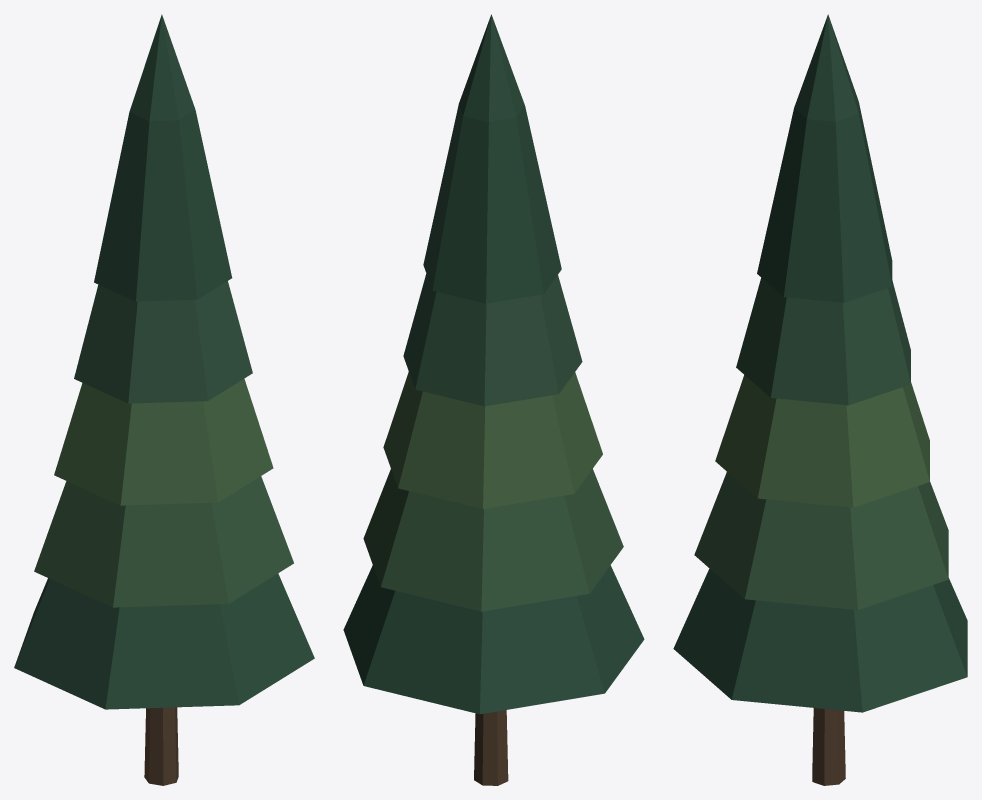
The model's file is cypress.glb.
3 views of the same model, side by side, from view 1: azimuth 30°, elevation 25°; view 2: azimuth 150°, elevation 25°; view 3: azimuth 270°, elevation 25° (orthographic).
Visible parts, largest first — view 1: cypress; view 2: cypress; view 3: cypress.
Boxes of the visible parts, x1,y1,x2,y2 form: cypress: (14, 14, 314, 785); cypress: (343, 14, 644, 785); cypress: (673, 14, 967, 785).
Bounding box in the file's own units: 0.6824 × 1.91 × 0.6653.
